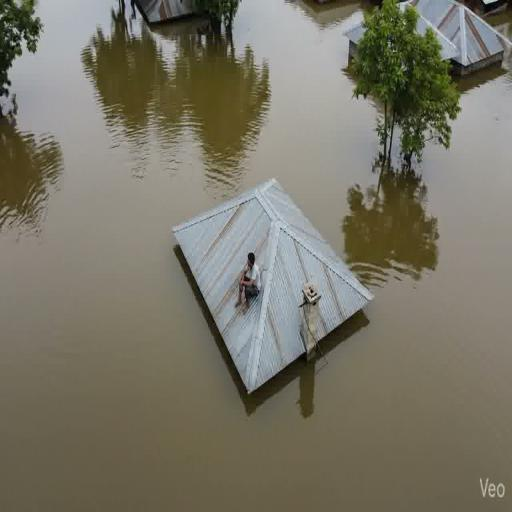human: (234, 244, 267, 310)
